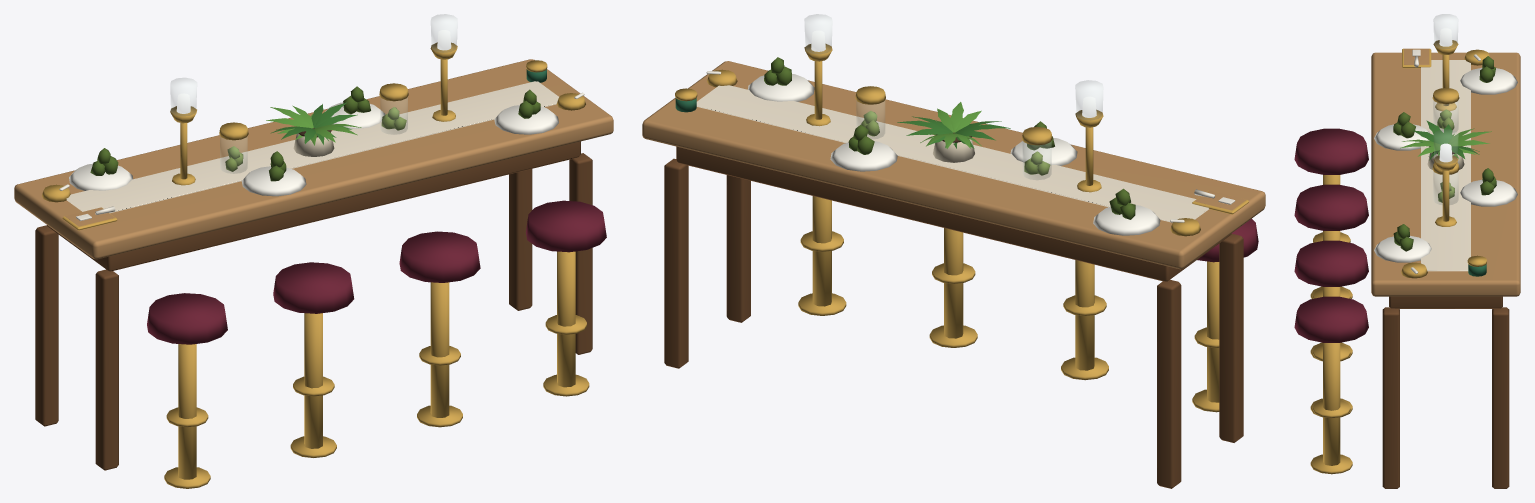
The model's file is rooftop_chefs_table.glb.
The picture shows the model from 3 angles, left to right: view 1: azimuth 30°, elevation 25°; view 2: azimuth 150°, elevation 25°; view 3: azimuth 270°, elevation 25°; orthographic projection. The views are drawn at different scales.
Parts seen in each view (by area): view 1: TableTop, Runner, Apron, Leg-1-1, Leg-11, StoolSeat1, StoolSeat3, StoolSeat0, StoolSeat2, Leg11, Leg1-1, StoolPole2 (+16 smaller); view 2: TableTop, Runner, Apron, Leg-11, Leg11, Leg-1-1, Leg1-1, StoolPole1, StoolPole3, StoolPole2, StoolPole0, Plate0 (+12 smaller); view 3: TableTop, Runner, Leg1-1, Leg11, StoolSeat2, StoolSeat3, StoolSeat1, StoolSeat0, StoolPole3, Apron, Plate2, Plate0 (+22 smaller).
Boxes of the visible parts, x1,y1,x2,y2 form: TableTop: [14, 59, 613, 259]; Runner: [66, 81, 558, 213]; Apron: [47, 141, 580, 271]; Leg-1-1: [95, 269, 118, 470]; Leg-11: [35, 225, 58, 426]; StoolSeat1: [273, 262, 354, 313]; StoolSeat3: [525, 200, 606, 252]; StoolSeat0: [147, 293, 227, 344]; StoolSeat2: [399, 231, 480, 282]; Leg11: [509, 169, 532, 310]; Leg1-1: [569, 153, 592, 354]; StoolPole2: [430, 282, 449, 417]; TableTop: [642, 61, 1265, 269]; Runner: [696, 85, 1208, 222]; Apron: [676, 146, 1231, 281]; Leg-11: [1157, 279, 1181, 488]; Leg11: [664, 158, 688, 368]; Leg-1-1: [1219, 234, 1243, 442]; Leg1-1: [726, 175, 750, 322]; StoolPole1: [1075, 260, 1094, 370]; StoolPole3: [812, 196, 831, 306]; StoolPole2: [944, 228, 963, 338]; StoolPole0: [1207, 261, 1219, 402]; Plate0: [1093, 205, 1160, 235]; TableTop: [1371, 52, 1520, 296]; Runner: [1421, 60, 1470, 271]; Leg1-1: [1382, 307, 1399, 488]; Leg11: [1492, 307, 1509, 488]; StoolSeat2: [1294, 240, 1368, 286]; StoolSeat3: [1294, 296, 1368, 342]; StoolSeat1: [1294, 184, 1368, 230]; StoolSeat0: [1294, 128, 1368, 174]; StoolPole3: [1323, 343, 1340, 465]; Apron: [1389, 296, 1502, 308]; Plate2: [1460, 179, 1517, 206]; Plate0: [1460, 67, 1517, 94].
Bounding box in the file's own units: 1.3 × 0.8007 × 0.5385.
